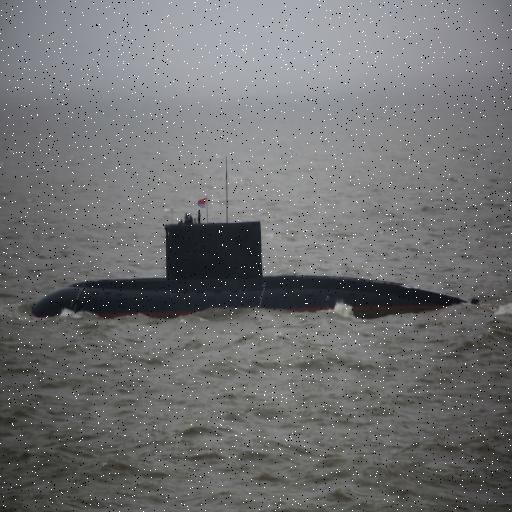submarine: (30, 220, 472, 322)
